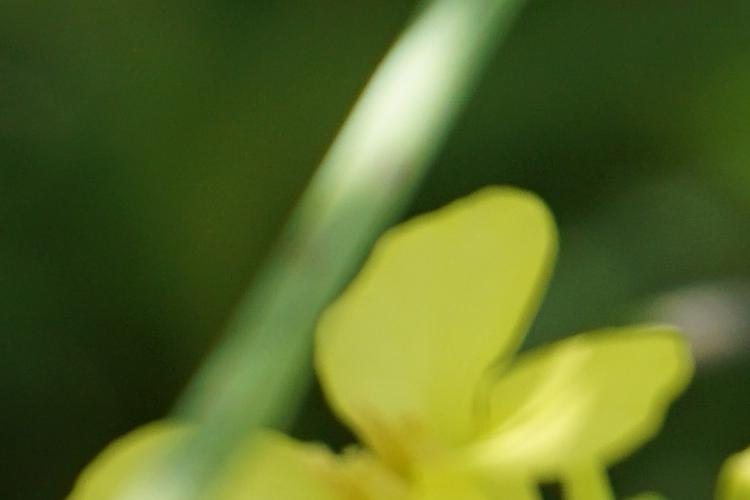yellow: (289, 194, 686, 471)
